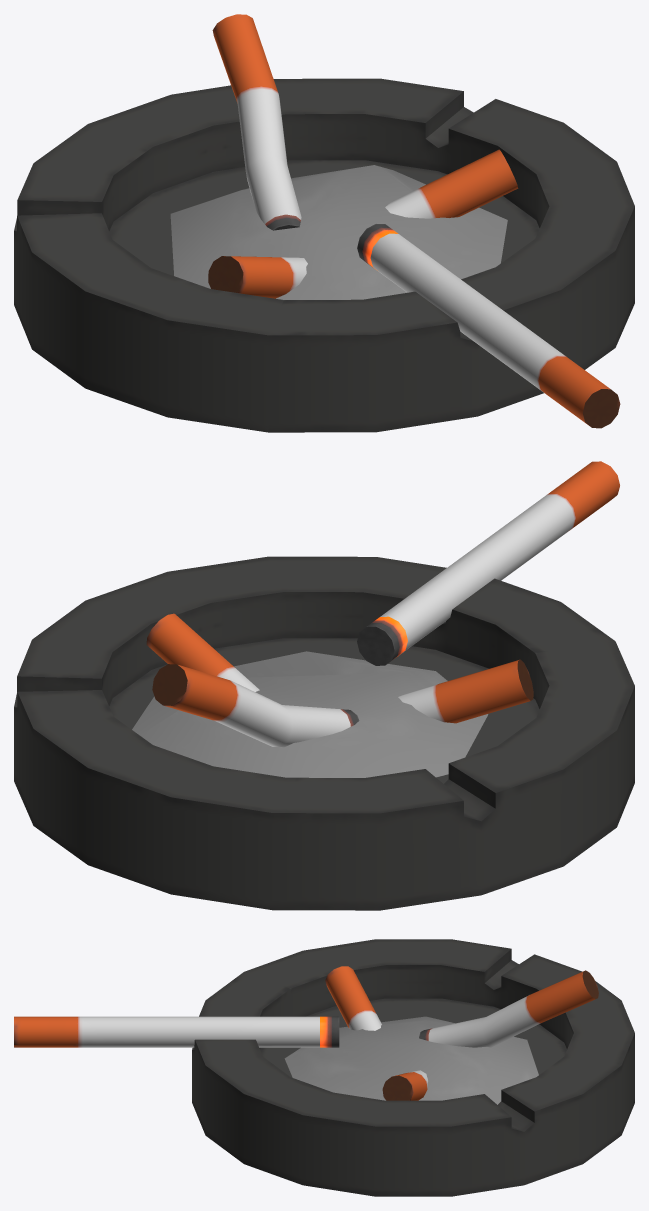
File: Ashtray_3.fbx
The picture shows the model from 3 angles, top to bottom: view 1: azimuth 30°, elevation 25°; view 2: azimuth 150°, elevation 25°; view 3: azimuth 270°, elevation 25°; orthographic projection. The views are drawn at different scales.
Parts seen in each view (by area): view 1: Ashtray_3; view 2: Ashtray_3; view 3: Ashtray_3.
Boxes of the visible parts, x1,y1,x2,y2 form: Ashtray_3: (14,14,634,432); Ashtray_3: (14,461,634,910); Ashtray_3: (14,939,634,1196).
Bounding box in the file's own units: 0.1143 × 0.0404 × 0.1603.
